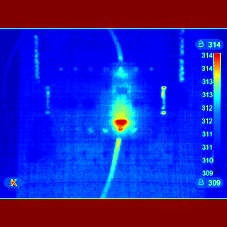High: (108, 105, 138, 135)
